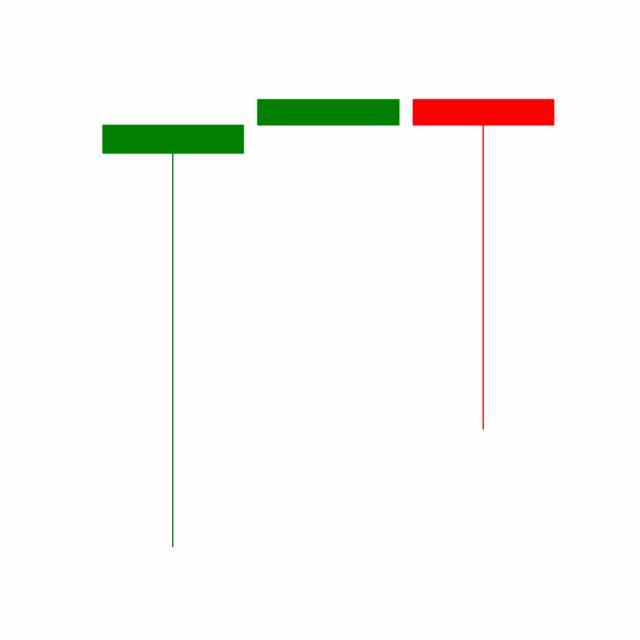Hammer: (406, 97, 562, 435)
